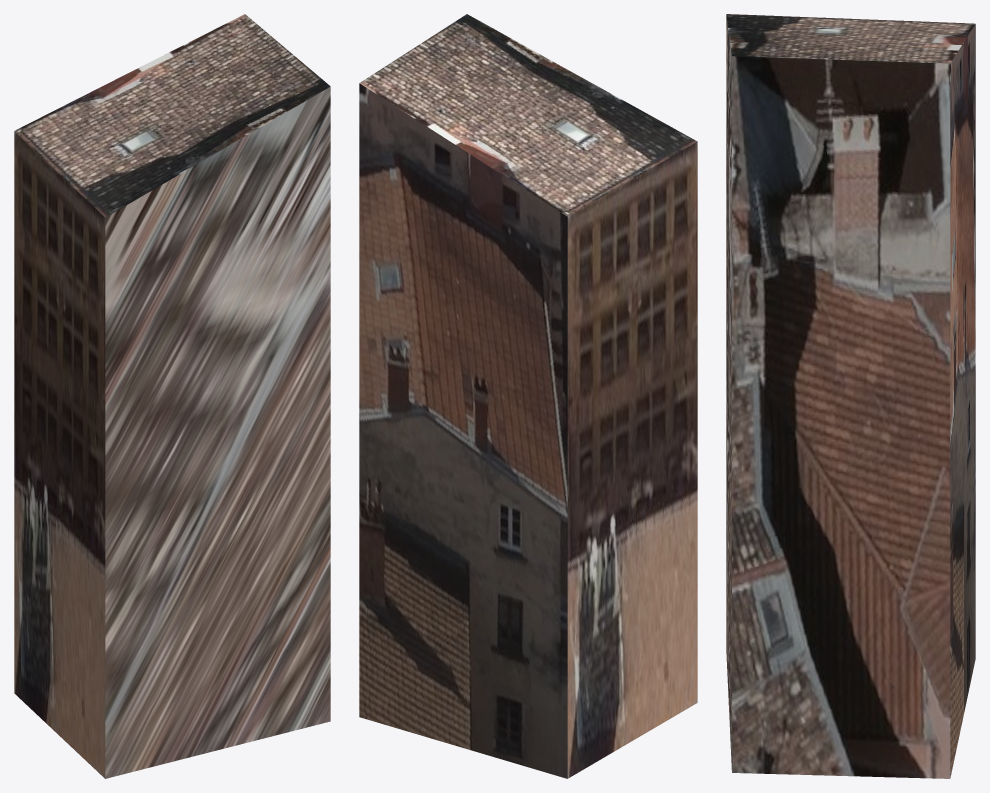
3 views of the same model, side by side, from view 1: azimuth 30°, elevation 25°; view 2: azimuth 150°, elevation 25°; view 3: azimuth 270°, elevation 25° (orthographic). The views are drawn at different scales.
Parts seen in each view (by area): view 1: Z_UP; view 2: Z_UP; view 3: Z_UP.
Boxes of the visible parts, x1,y1,x2,y2 form: Z_UP: (14, 14, 330, 778); Z_UP: (359, 14, 697, 778); Z_UP: (726, 14, 975, 778).
Bounding box in the file's own units: 9.35 × 23.73 × 7.49.
2 materials, 1 textured.
